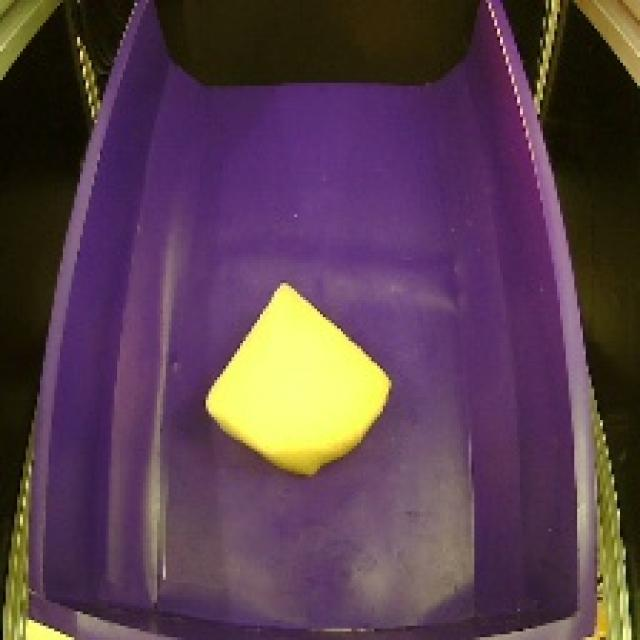potato: (190, 271, 403, 486)
